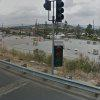Traffic light: (39, 0, 74, 35)
